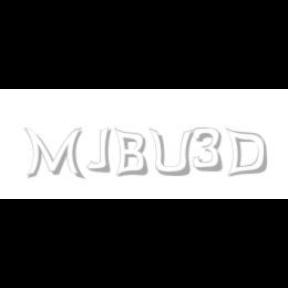3: (192, 128, 224, 172)
B: (114, 128, 148, 178)
D: (224, 128, 268, 178)
J: (86, 128, 112, 172)
M: (24, 128, 83, 180)
U: (148, 128, 194, 178)
